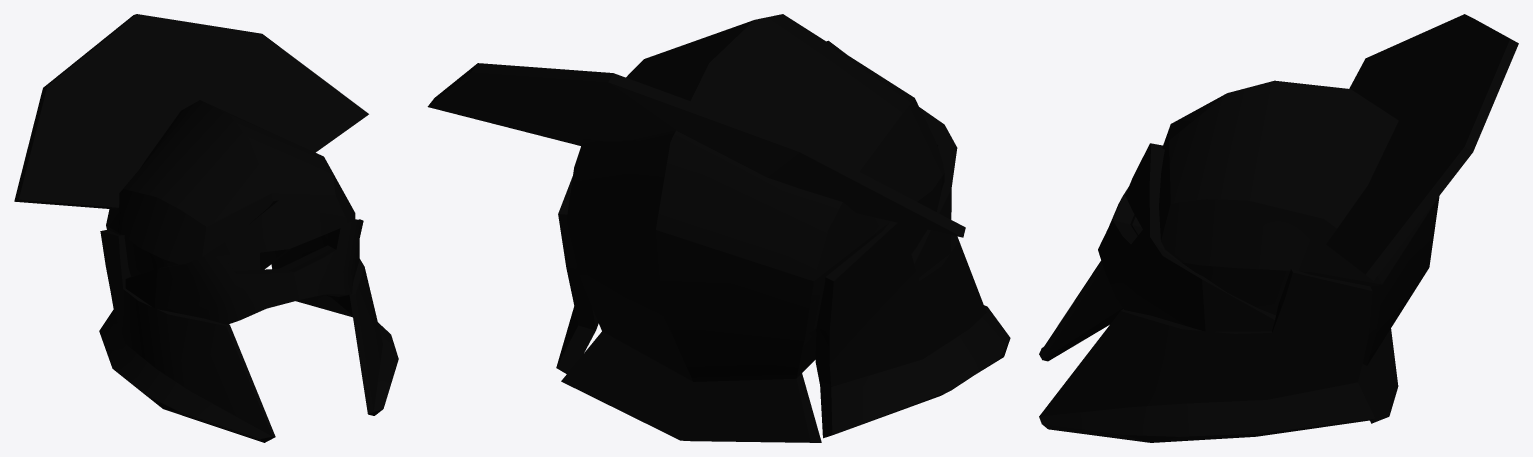
File: Ork Helmet 03.fbx
3 renders of one model, left to right at view 1: azimuth 30°, elevation 25°; view 2: azimuth 150°, elevation 25°; view 3: azimuth 270°, elevation 25°, orthographic. The views are drawn at different scales.
Parts seen in each view (by area): view 1: Ork Helmet 03; view 2: Ork Helmet 03; view 3: Ork Helmet 03.
Boxes of the visible parts, <box> form: Ork Helmet 03: <box>14,14,398,442</box>; Ork Helmet 03: <box>427,14,1010,442</box>; Ork Helmet 03: <box>1039,14,1518,442</box>.
Bounding box in the file's own units: 52.09 × 39.69 × 48.42.
